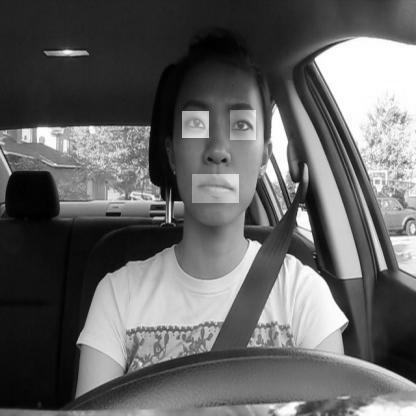seatbelt: (155, 15, 277, 349)
